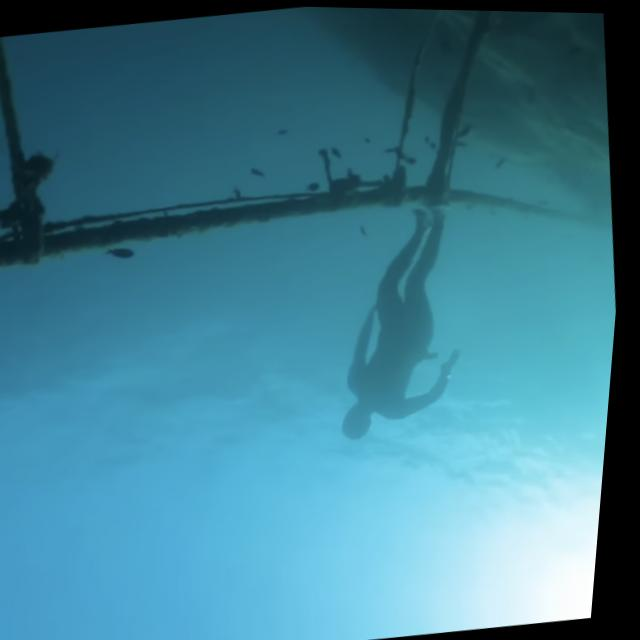human: (314, 193, 494, 446)
